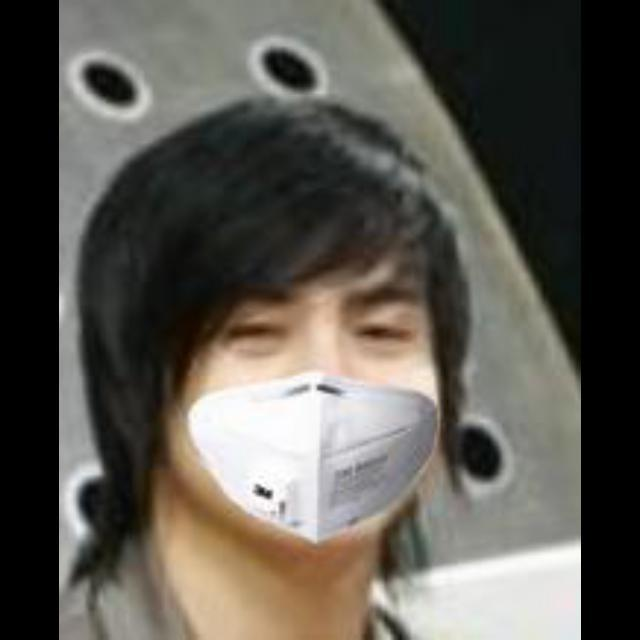suspicion: (134, 123, 474, 563)
